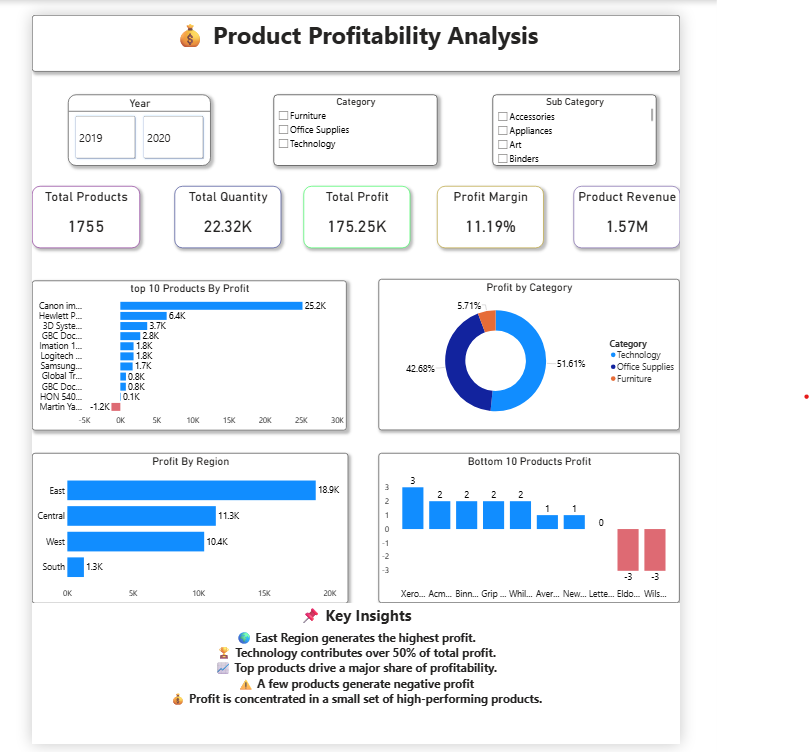

This screenshot's page, from the dashboard's own definition file:
{"tool":"powerbi","page":{"name":"Page 2","canvas":[2400,2700],"ordinal":1},"visuals":[{"type":"card","title":"Total Products","fields":{"Values":["_Measures.Total Products"]},"box":[0,635,400,230],"z":0},{"type":"card","title":"Total Quantity","fields":{"Values":["_Measures.Total quantity"]},"box":[525,635,395,230],"z":1000},{"type":"card","title":"Profit Margin","fields":{"Values":["Dim_Customer.Profit Margin %"]},"box":[1500,635,395,230],"z":2000},{"type":"card","title":"Product Revenue","fields":{"Values":["_Measures.Total Sales"]},"box":[2005,635,395,230],"z":3000},{"type":"card","title":"Total Profit","fields":{"Values":["_Measures.Total Profit"]},"box":[1005,635,395,230],"z":4000},{"type":"barChart","title":"top 10 Products By Profit","fields":{"Category":["Dim_Product.Product Name"],"Y":["_Measures.Total Profit"]},"box":[0,985,1165,555],"z":5000},{"type":"donutChart","title":" Profit by Category","fields":{"Category":["Dim_Product.Category"],"Y":["_Measures.Total Profit"]},"box":[1285,980,1115,560],"z":6000},{"type":"clusteredColumnChart","title":"Bottom 10  Products Profit","fields":{"Category":["Dim_Product.Product Name"],"Y":["Sum(fact table.Profit)"]},"box":[1285,1620,1115,555],"z":7000},{"type":"textbox","box":[0,0,2400,210],"z":8000},{"type":"barChart","title":"Profit By Region","fields":{"Category":["fact table.Region"],"Y":["_Measures.Total Profit"]},"box":[0,1621.4,1171.4,557.1],"z":9000},{"type":"textbox","box":[0,2178.6,2400,521.4],"z":10000},{"type":"advancedSlicerVisual","fields":{"Values":["Dim_Date.Date.Variation.Date Hierarchy.Year"]},"box":[135.7,292.9,528.6,264.3],"z":11000},{"type":"slicer","title":"Category","fields":{"Values":["fact table.Category"]},"box":[892.9,292.9,607.1,264.3],"z":12000},{"type":"slicer","title":"Sub Category","fields":{"Values":["fact table.Sub-Category"]},"box":[1707.1,292.9,607.1,264.3],"z":13000}]}

Visuals, with their boxes on the page's 2400x2700 design canvas (x1, y1, x2, y2). These are canvas units, not pixel positions in the 809x752 screenshot, which may show the page scaled, cropped or inside an application window:
"Total Products" card: (left=0, top=635, right=400, bottom=865)
"Total Quantity" card: (left=525, top=635, right=920, bottom=865)
"Profit Margin" card: (left=1500, top=635, right=1895, bottom=865)
"Product Revenue" card: (left=2005, top=635, right=2400, bottom=865)
"Total Profit" card: (left=1005, top=635, right=1400, bottom=865)
"top 10 Products By Profit" barChart: (left=0, top=985, right=1165, bottom=1540)
" Profit by Category" donutChart: (left=1285, top=980, right=2400, bottom=1540)
"Bottom 10  Products Profit" clusteredColumnChart: (left=1285, top=1620, right=2400, bottom=2175)
textbox: (left=0, top=0, right=2400, bottom=210)
"Profit By Region" barChart: (left=0, top=1621, right=1171, bottom=2178)
textbox: (left=0, top=2179, right=2400, bottom=2700)
advancedSlicerVisual - Dim_Date.Date.Variation.Date Hierarchy.Year: (left=136, top=293, right=664, bottom=557)
"Category" slicer: (left=893, top=293, right=1500, bottom=557)
"Sub Category" slicer: (left=1707, top=293, right=2314, bottom=557)
